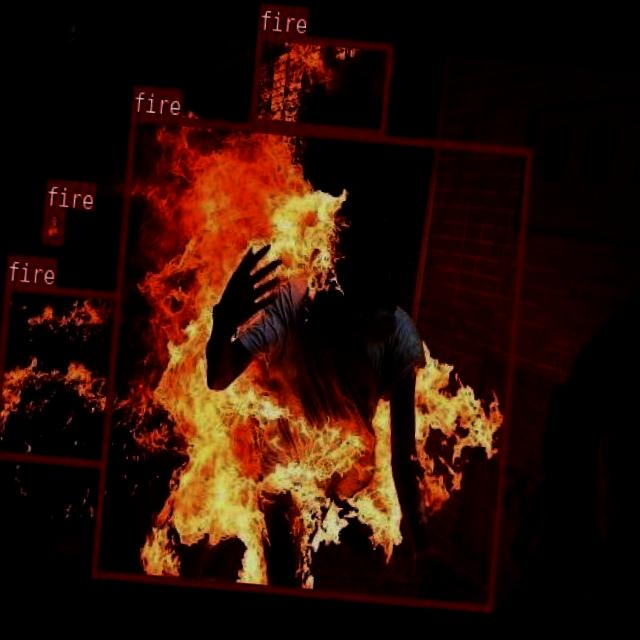fire: (90, 112, 532, 610), (0, 281, 120, 466), (248, 29, 392, 136), (40, 206, 65, 243)
